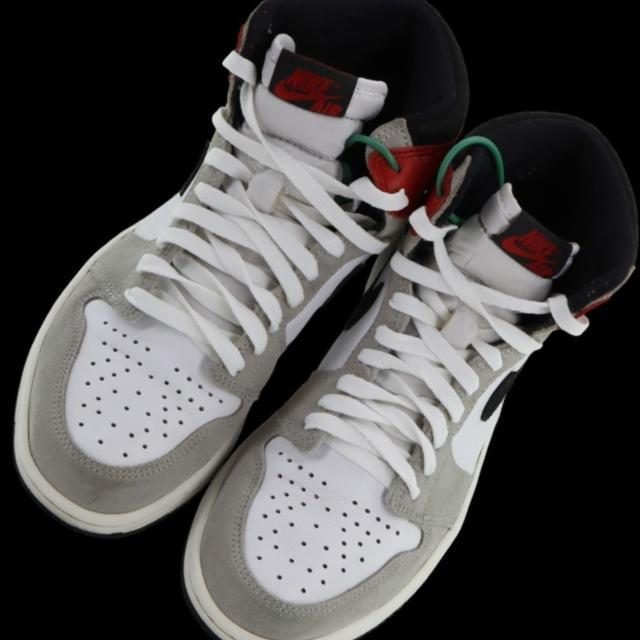nike original jordan 1: (116, 54, 640, 640), (0, 0, 511, 580)
